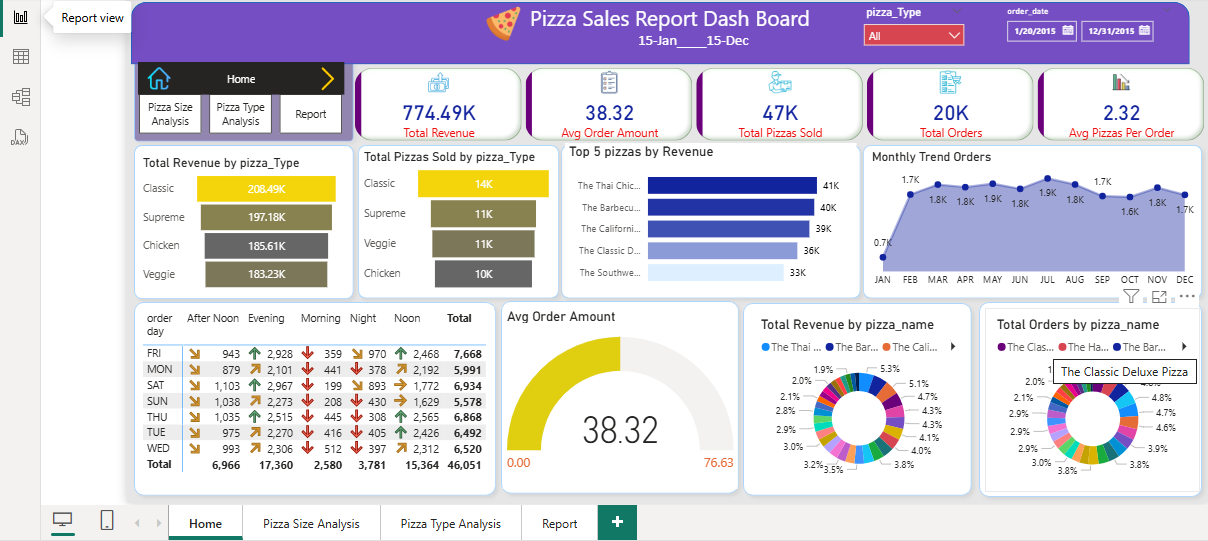

The page's visual inventory and layout, read from the dashboard file:
{"tool":"powerbi","page":{"name":"Home","canvas":[1370,638],"ordinal":0},"visuals":[{"type":"shape","box":[0,60,295.7,130],"z":0},{"type":"shape","box":[5,3.8,1340,78.8],"z":1000},{"type":"cardVisual","fields":{"Data":["bizza data set end to end project -.Total Revenue","bizza data set end to end project -.Average Order Value","bizza data set end to end project -.Total Pizzas Sold","bizza data set end to end project -.Total Orders","bizza data set end to end project -.Average Pizzas Per Order"]},"box":[283,82,1086,102],"z":2000},{"type":"textbox","box":[505,0,415,52.5],"z":3000},{"type":"textbox","box":[641.2,35,161.2,33.8],"z":4000},{"type":"image","box":[437.5,3.8,76.2,55],"z":5000},{"type":"shape","box":[541,176,397,212],"z":6000},{"type":"shape","box":[923,176,447,212],"z":7000},{"type":"areaChart","title":"Monthly Trend Orders","fields":{"Y":["bizza data set end to end project -.Total Orders"],"Category":["bizza data set end to end project -.order month"]},"box":[938,190,420,184],"z":8000},{"type":"shape","box":[283,176,272,212],"z":9000},{"type":"funnel","fields":{"Y":["bizza data set end to end project -.Total Pizzas Sold"],"Category":["bizza data set end to end project -.pizza_category"]},"box":[295,190,249,184],"z":10000},{"type":"slicer","fields":{"Values":["bizza data set end to end project -.pizza_category"]},"box":[923,4,147,64],"z":11000},{"type":"pageNavigator","box":[15.7,120,258.6,50],"z":12000},{"type":"slicer","fields":{"Values":["bizza data set end to end project -.order_date"]},"box":[1101.4,4.3,232.9,78.6],"z":13000},{"type":"pageNavigator","box":[14.3,80,261.4,41.4],"z":14000},{"type":"image","box":[15.7,81.4,50,38.6],"z":15000},{"type":"image","box":[234.3,75.7,40,50],"z":16000},{"type":"shape","box":[0,175.7,295.7,212.9],"z":17000},{"type":"funnel","fields":{"Category":["bizza data set end to end project -.pizza_category"],"Y":["bizza data set end to end project -.Total Revenue"]},"box":[15,198,259,176],"z":18000},{"type":"shape","box":[771.4,375.7,307.1,261.4],"z":19000},{"type":"shape","box":[1070,374.3,300,264.3],"z":20000},{"type":"donutChart","fields":{"Category":["bizza data set end to end project -.pizza_name"],"Y":["bizza data set end to end project -.Total Revenue"]},"box":[787.1,391.4,278.6,231.4],"z":21000},{"type":"donutChart","fields":{"Category":["bizza data set end to end project -.pizza_name"],"Y":["bizza data set end to end project -.Total Orders"]},"box":[1085.7,391.4,272.9,232.9],"z":22000},{"type":"shape","box":[0,374.3,475.7,262.9],"z":23000},{"type":"pivotTable","fields":{"Rows":["bizza data set end to end project -.order day"],"Columns":["bizza data set end to end project -.Time Period"],"Values":["bizza data set end to end project -.Total Pizzas Sold"]},"box":[15.7,388.6,448.6,231.4],"z":24000},{"type":"barChart","title":"Top 5 pizzas by Revenue ","fields":{"Category":["bizza data set end to end project -.pizza_name"],"Y":["bizza data set end to end project -.Total Revenue"]},"box":[554.3,182.9,368.6,191.4],"z":25000},{"type":"shape","box":[464.3,372.9,318.6,261.4],"z":26000},{"type":"gauge","fields":{"Y":["bizza data set end to end project -.Avg Order cost"]},"box":[475.7,391.4,297.1,228.6],"z":27000}]}

Visuals, with their boxes on the page's 1370x638 design canvas (x1, y1, x2, y2). These are canvas units, not pixel positions in the 1208x541 screenshot, which may show the page scaled, cropped or inside an application window:
shape: 0,60,296,190
shape: 5,4,1345,83
cardVisual - bizza data set end to end project -.Total Revenue x bizza data set end to end project -.Average Order Value: 283,82,1369,184
textbox: 505,0,920,52
textbox: 641,35,802,69
image: 438,4,514,59
shape: 541,176,938,388
shape: 923,176,1370,388
"Monthly Trend Orders" areaChart: 938,190,1358,374
shape: 283,176,555,388
funnel - bizza data set end to end project -.Total Pizzas Sold x bizza data set end to end project -.pizza_category: 295,190,544,374
slicer - bizza data set end to end project -.pizza_category: 923,4,1070,68
pageNavigator: 16,120,274,170
slicer - bizza data set end to end project -.order_date: 1101,4,1334,83
pageNavigator: 14,80,276,121
image: 16,81,66,120
image: 234,76,274,126
shape: 0,176,296,389
funnel - bizza data set end to end project -.pizza_category x bizza data set end to end project -.Total Revenue: 15,198,274,374
shape: 771,376,1078,637
shape: 1070,374,1370,639
donutChart - bizza data set end to end project -.pizza_name x bizza data set end to end project -.Total Revenue: 787,391,1066,623
donutChart - bizza data set end to end project -.pizza_name x bizza data set end to end project -.Total Orders: 1086,391,1359,624
shape: 0,374,476,637
pivotTable - bizza data set end to end project -.order day x bizza data set end to end project -.Time Period: 16,389,464,620
"Top 5 pizzas by Revenue " barChart: 554,183,923,374
shape: 464,373,783,634
gauge - bizza data set end to end project -.Avg Order cost: 476,391,773,620
